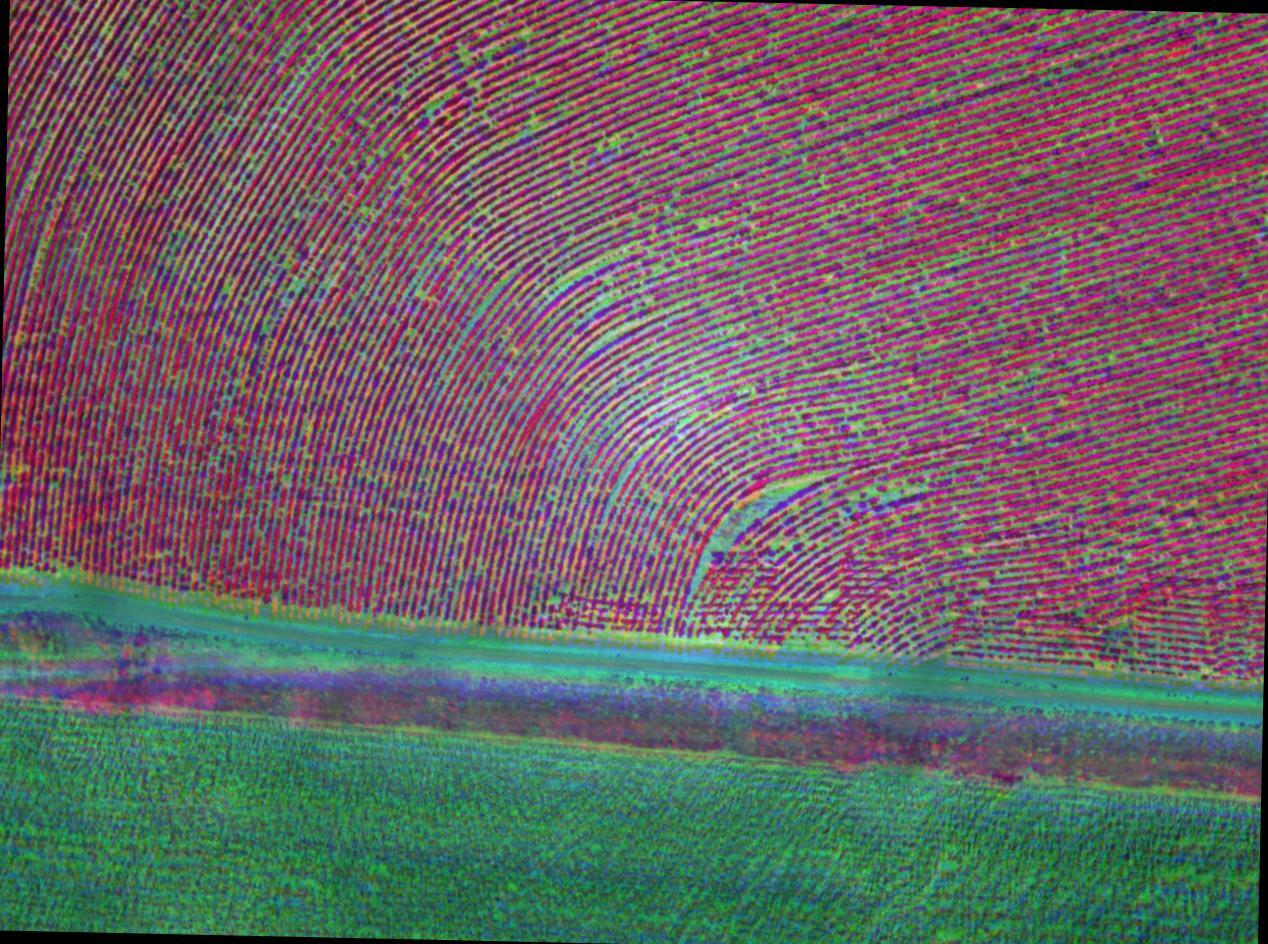dc: (403, 3, 562, 157), (688, 468, 844, 615), (221, 38, 346, 145), (168, 188, 294, 289), (566, 230, 659, 341)
